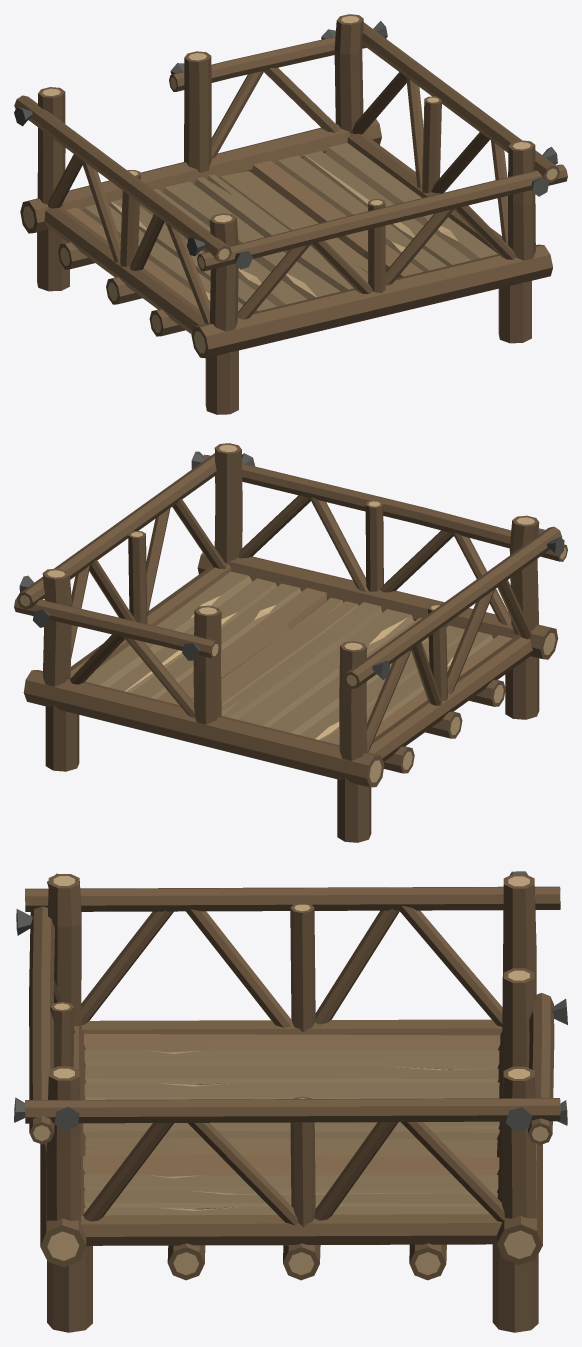
The model's file is rpgpp_ag_stockpile_02_platform_01b.fbx.
The picture shows the model from 3 angles, top to bottom: view 1: azimuth 30°, elevation 25°; view 2: azimuth 150°, elevation 25°; view 3: azimuth 270°, elevation 25°; orthographic projection. The views are drawn at different scales.
Visible parts, largest first — view 1: rpgpp_ag_stockpile_02_platform_01b; view 2: rpgpp_ag_stockpile_02_platform_01b; view 3: rpgpp_ag_stockpile_02_platform_01b.
Part boxes in pixels (x1=…): rpgpp_ag_stockpile_02_platform_01b: x1=14, y1=14, x2=567, y2=414; rpgpp_ag_stockpile_02_platform_01b: x1=14, y1=443, x2=567, y2=842; rpgpp_ag_stockpile_02_platform_01b: x1=14, y1=871, x2=567, y2=1332.
Bounding box in the file's own units: 4.84 × 2.42 × 4.81.
